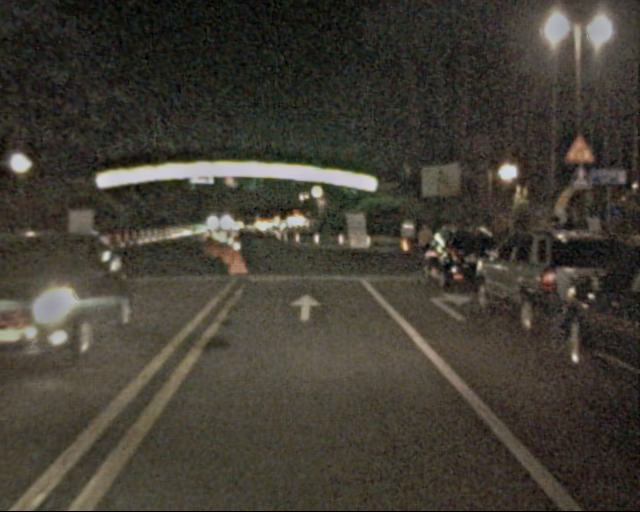person: (416, 223, 437, 274), (397, 215, 417, 264)
